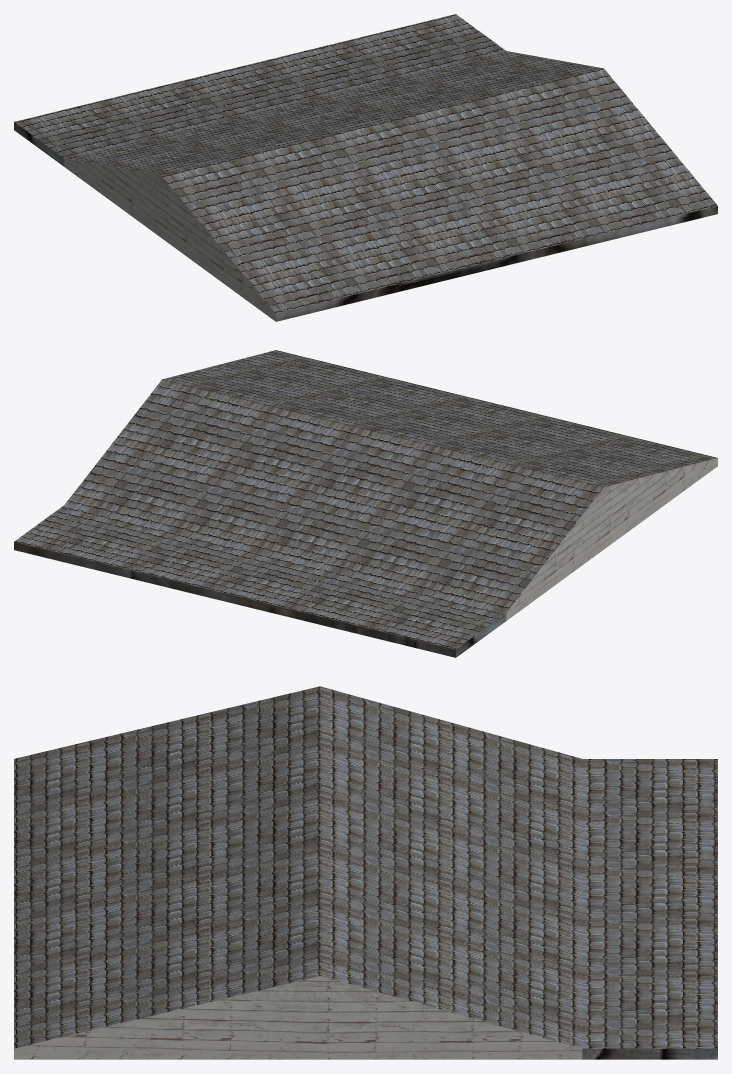
The model's file is FarmhouseRoof.fbx.
The picture shows the model from 3 angles, top to bottom: view 1: azimuth 30°, elevation 25°; view 2: azimuth 150°, elevation 25°; view 3: azimuth 270°, elevation 25°; orthographic projection. The views are drawn at different scales.
Visible parts, largest first — view 1: FarmhouseROof; view 2: FarmhouseROof; view 3: FarmhouseROof.
Part boxes in pixels (bbox=[...]): FarmhouseROof: bbox=[14, 14, 717, 321]; FarmhouseROof: bbox=[14, 350, 717, 657]; FarmhouseROof: bbox=[14, 686, 717, 1059].
Size of the model in its own units: 56.17 by 7.56 by 57.68.
